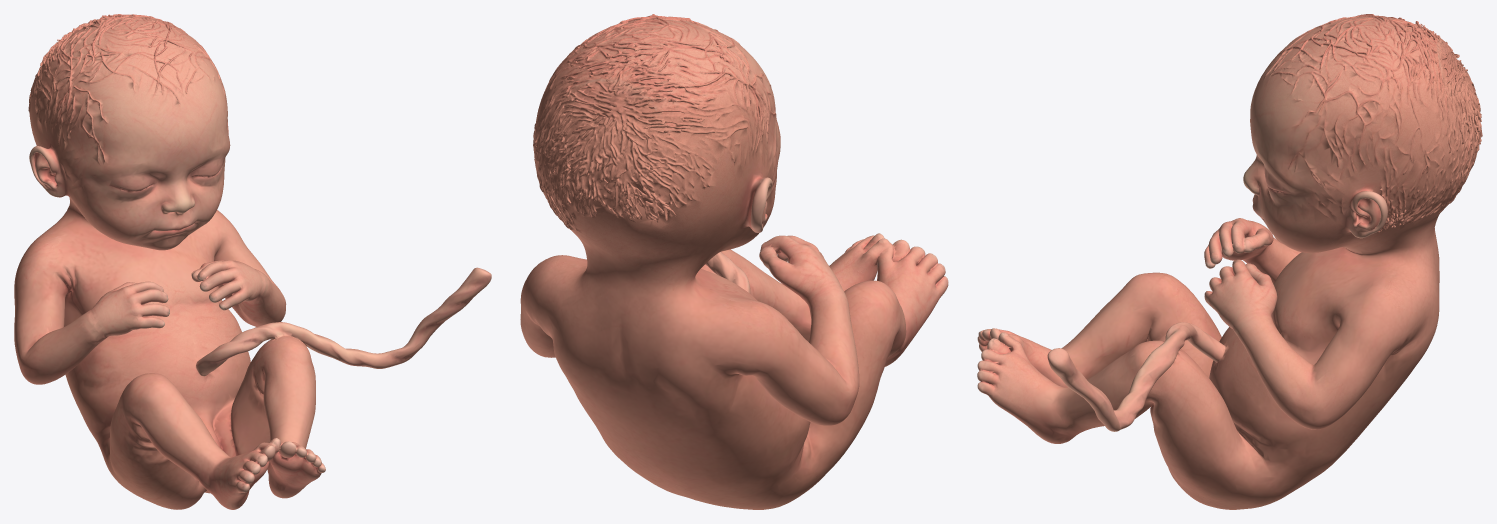
File: semaine-16.glb
3 views of the same model, side by side, from view 1: azimuth 30°, elevation 25°; view 2: azimuth 150°, elevation 25°; view 3: azimuth 270°, elevation 25° (orthographic). The views are drawn at different scales.
Size of the model in its own units: 1.64 by 1.9 by 1.84.
1 material, 1 textured.
